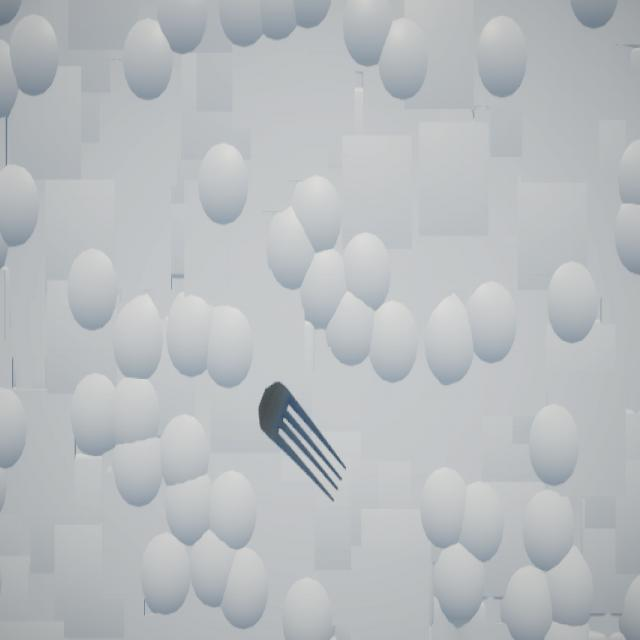top_folk: (259, 383, 348, 503)
